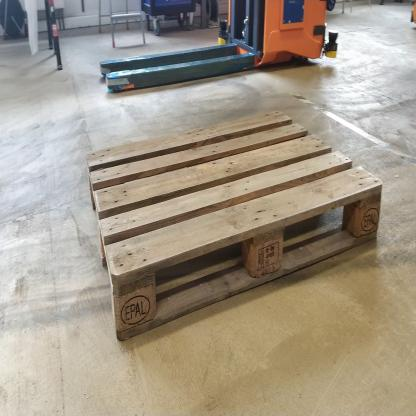BoxFace: (81, 103, 384, 351)
